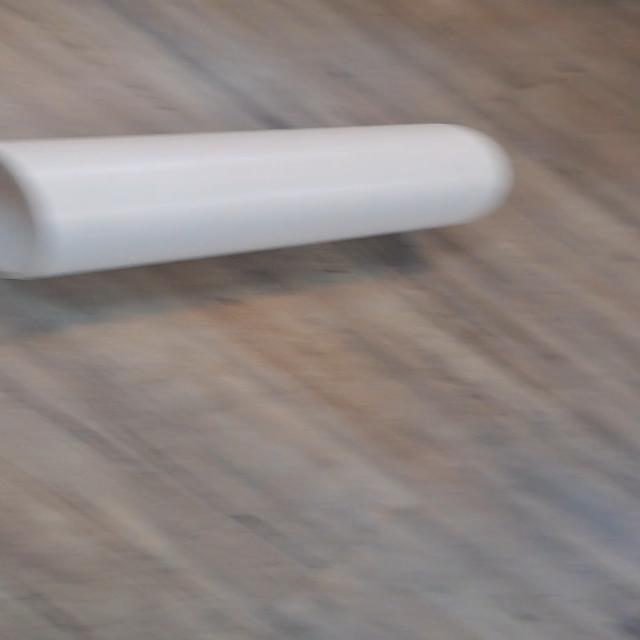CORAL: (0, 105, 516, 277)
